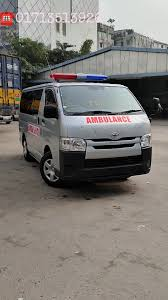Ambulance: (14, 69, 157, 191)
